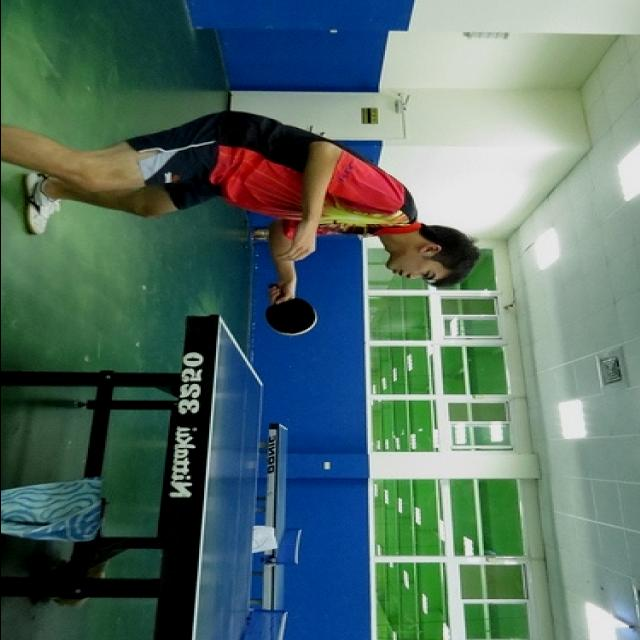TT Net: (270, 526, 310, 574), (233, 608, 285, 640)
TT Racket: (263, 285, 319, 337)
TT Table: (187, 317, 277, 640), (259, 427, 295, 639)
